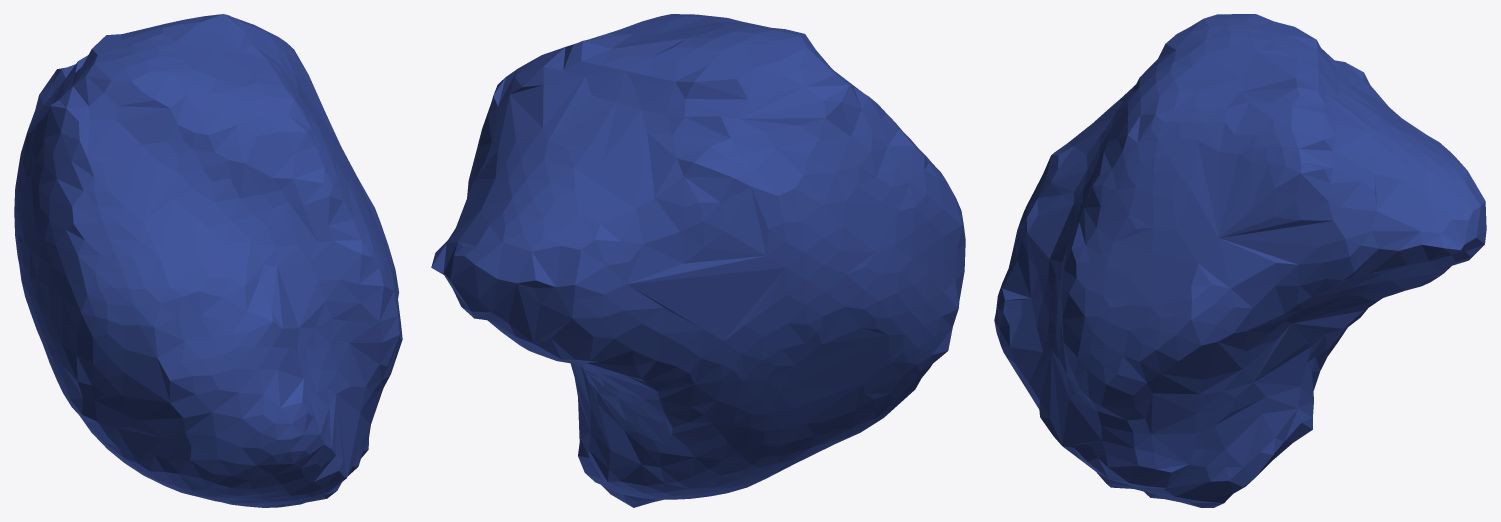
The model's file is Model_265_RH__Laterodorsal_thalamic_nucleus_(LD).obj.
The picture shows the model from 3 angles, left to right: view 1: azimuth 30°, elevation 25°; view 2: azimuth 150°, elevation 25°; view 3: azimuth 270°, elevation 25°; orthographic projection. The views are drawn at different scales.
Bounding box in the file's own units: 1.5 × 1.89 × 1.97.
